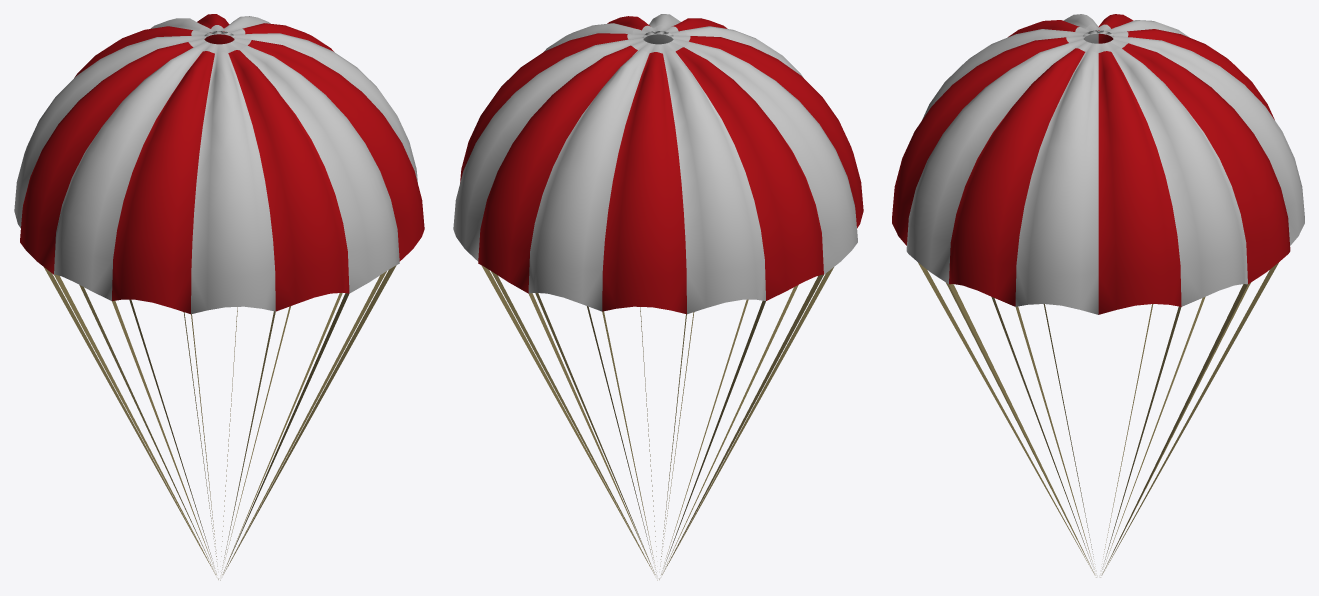
The model's file is parachute_small.dae.
3 views of the same model, side by side, from view 1: azimuth 30°, elevation 25°; view 2: azimuth 150°, elevation 25°; view 3: azimuth 270°, elevation 25° (orthographic).
Visible parts, largest first — view 1: Sphere_000; view 2: Sphere_000; view 3: Sphere_000.
Boxes of the visible parts, bbox=[...] form: Sphere_000: bbox=[14, 14, 424, 580]; Sphere_000: bbox=[453, 14, 863, 580]; Sphere_000: bbox=[892, 14, 1304, 577].
Size of the model in its own units: 1.18 by 1.2 by 1.75.
